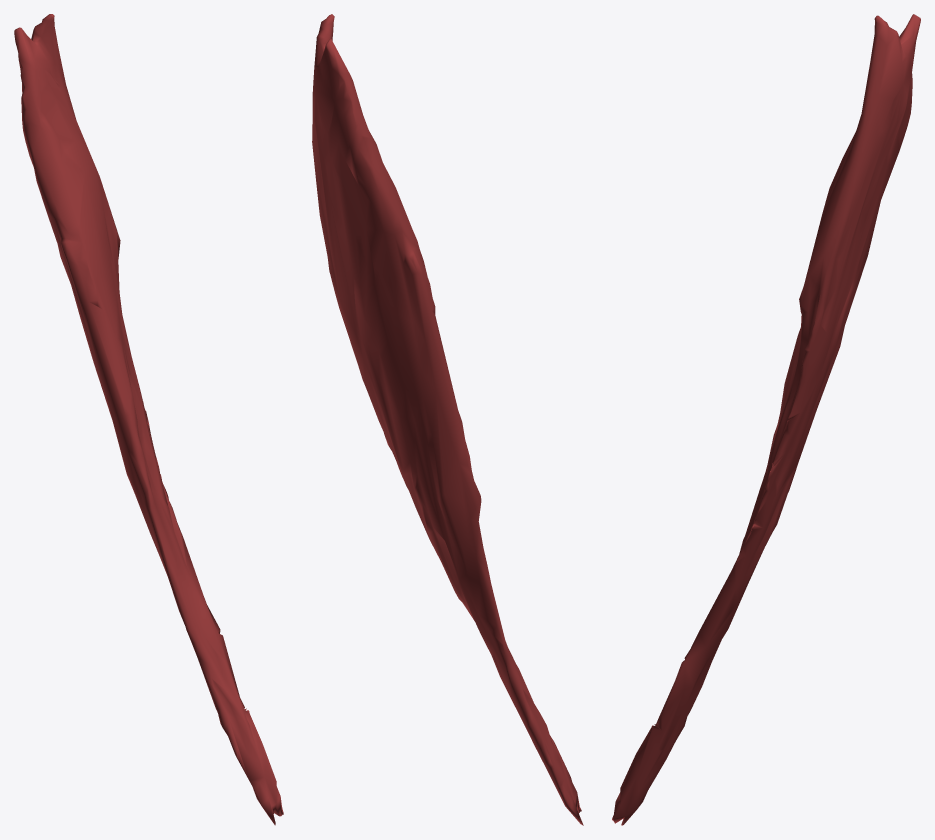
File: ulnar-head-of-flexor-carpi-ulnaris-r.glb
The picture shows the model from 3 angles, left to right: view 1: azimuth 90°, elevation 25°; view 2: azimuth 150°, elevation 25°; view 3: azimuth 270°, elevation 25°; orthographic projection. The views are drawn at different scales.
Parts seen in each view (by area): view 1: Ulnar head of flexor carpi ulnaris.r; view 2: Ulnar head of flexor carpi ulnaris.r; view 3: Ulnar head of flexor carpi ulnaris.r.
Boxes of the visible parts, <box> form: Ulnar head of flexor carpi ulnaris.r: <box>14,14,283,825</box>; Ulnar head of flexor carpi ulnaris.r: <box>312,14,583,825</box>; Ulnar head of flexor carpi ulnaris.r: <box>612,14,920,825</box>.
Bounding box in the file's own units: 0.0416 × 0.2201 × 0.0708.
